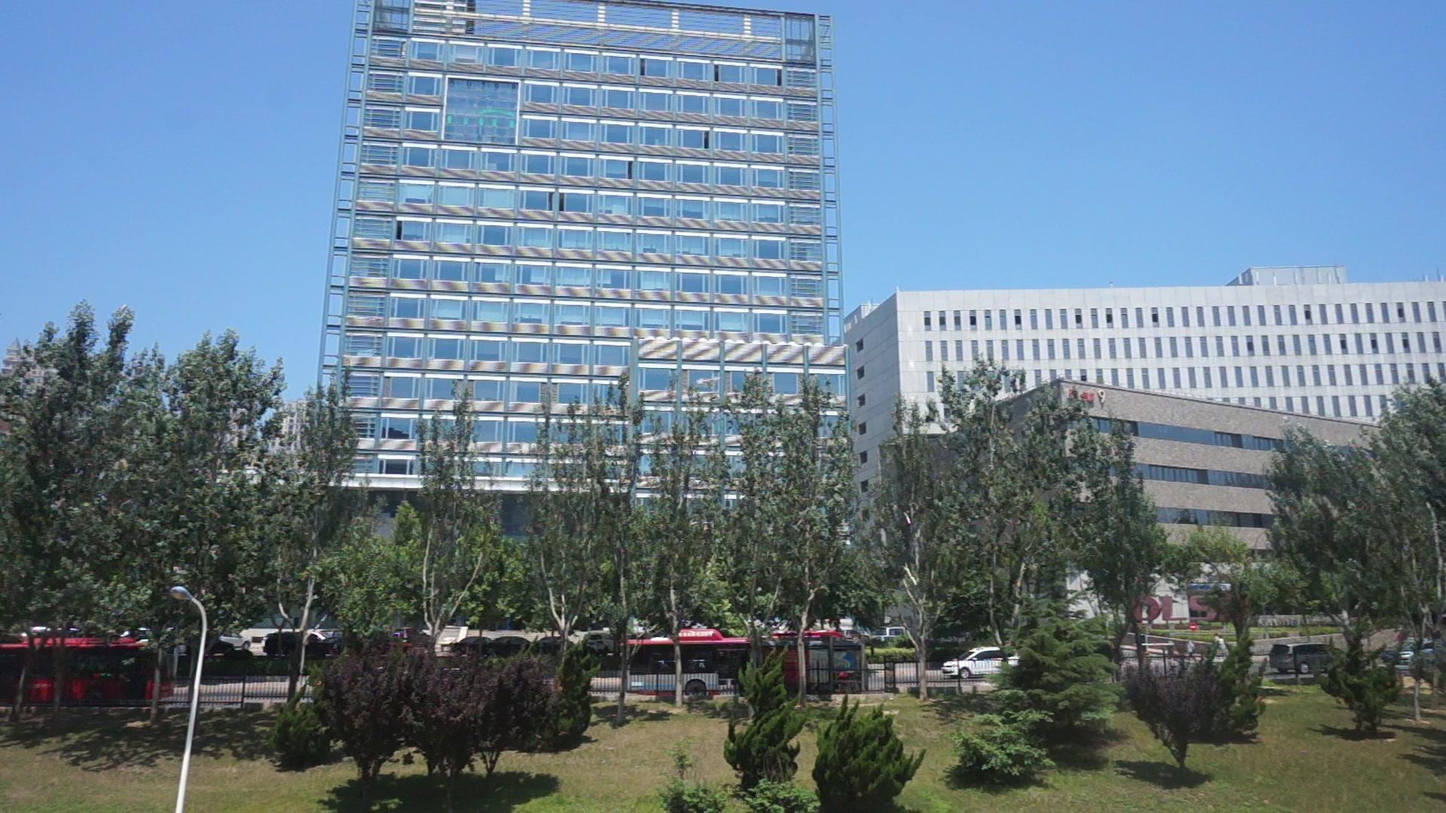UAV: (697, 377, 721, 389)
